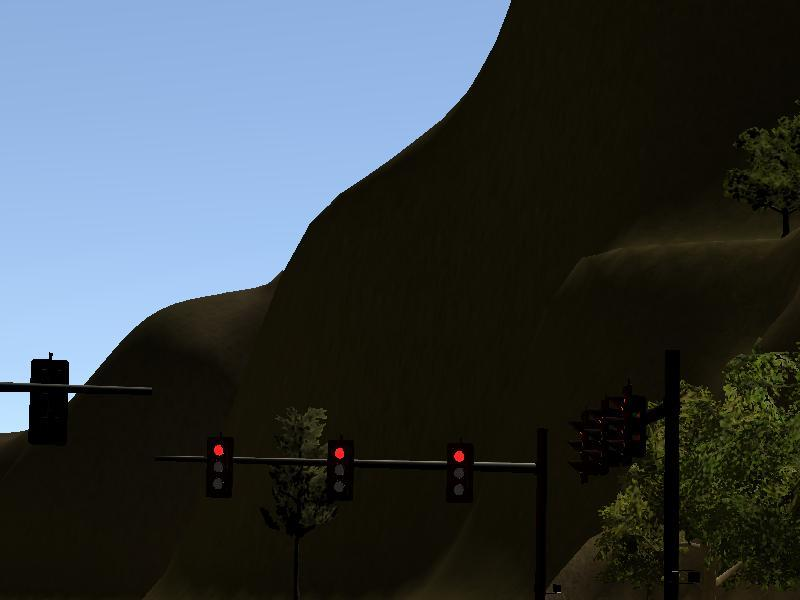Red: (208, 437, 231, 497), (329, 441, 351, 497), (452, 443, 471, 499)
